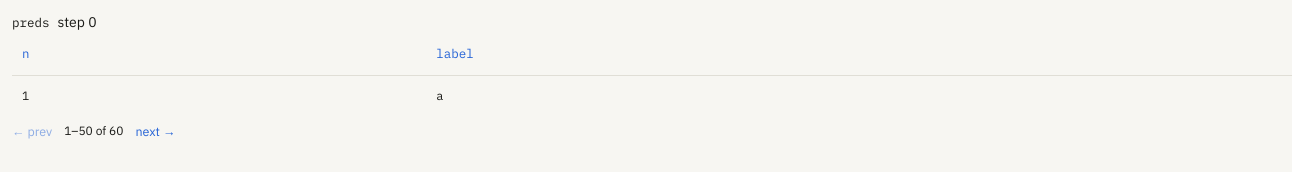
Scenario: MediaTable › shows a page of rows and pages forward
The image size is (1292, 172).
expect the text "a" is shown: met, box [426, 76, 1291, 116]
Click the button "next →" at (155, 131), box [135, 123, 175, 139]
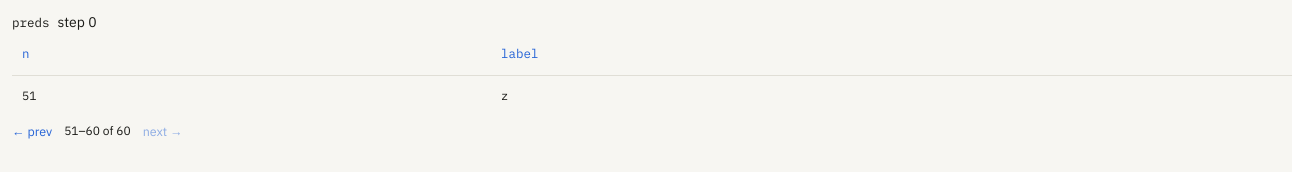
expect the text "z" is shown: met, box [491, 76, 1291, 116]
